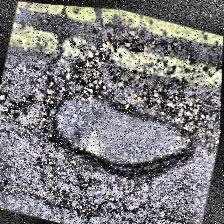pothole: (34, 76, 210, 192)
